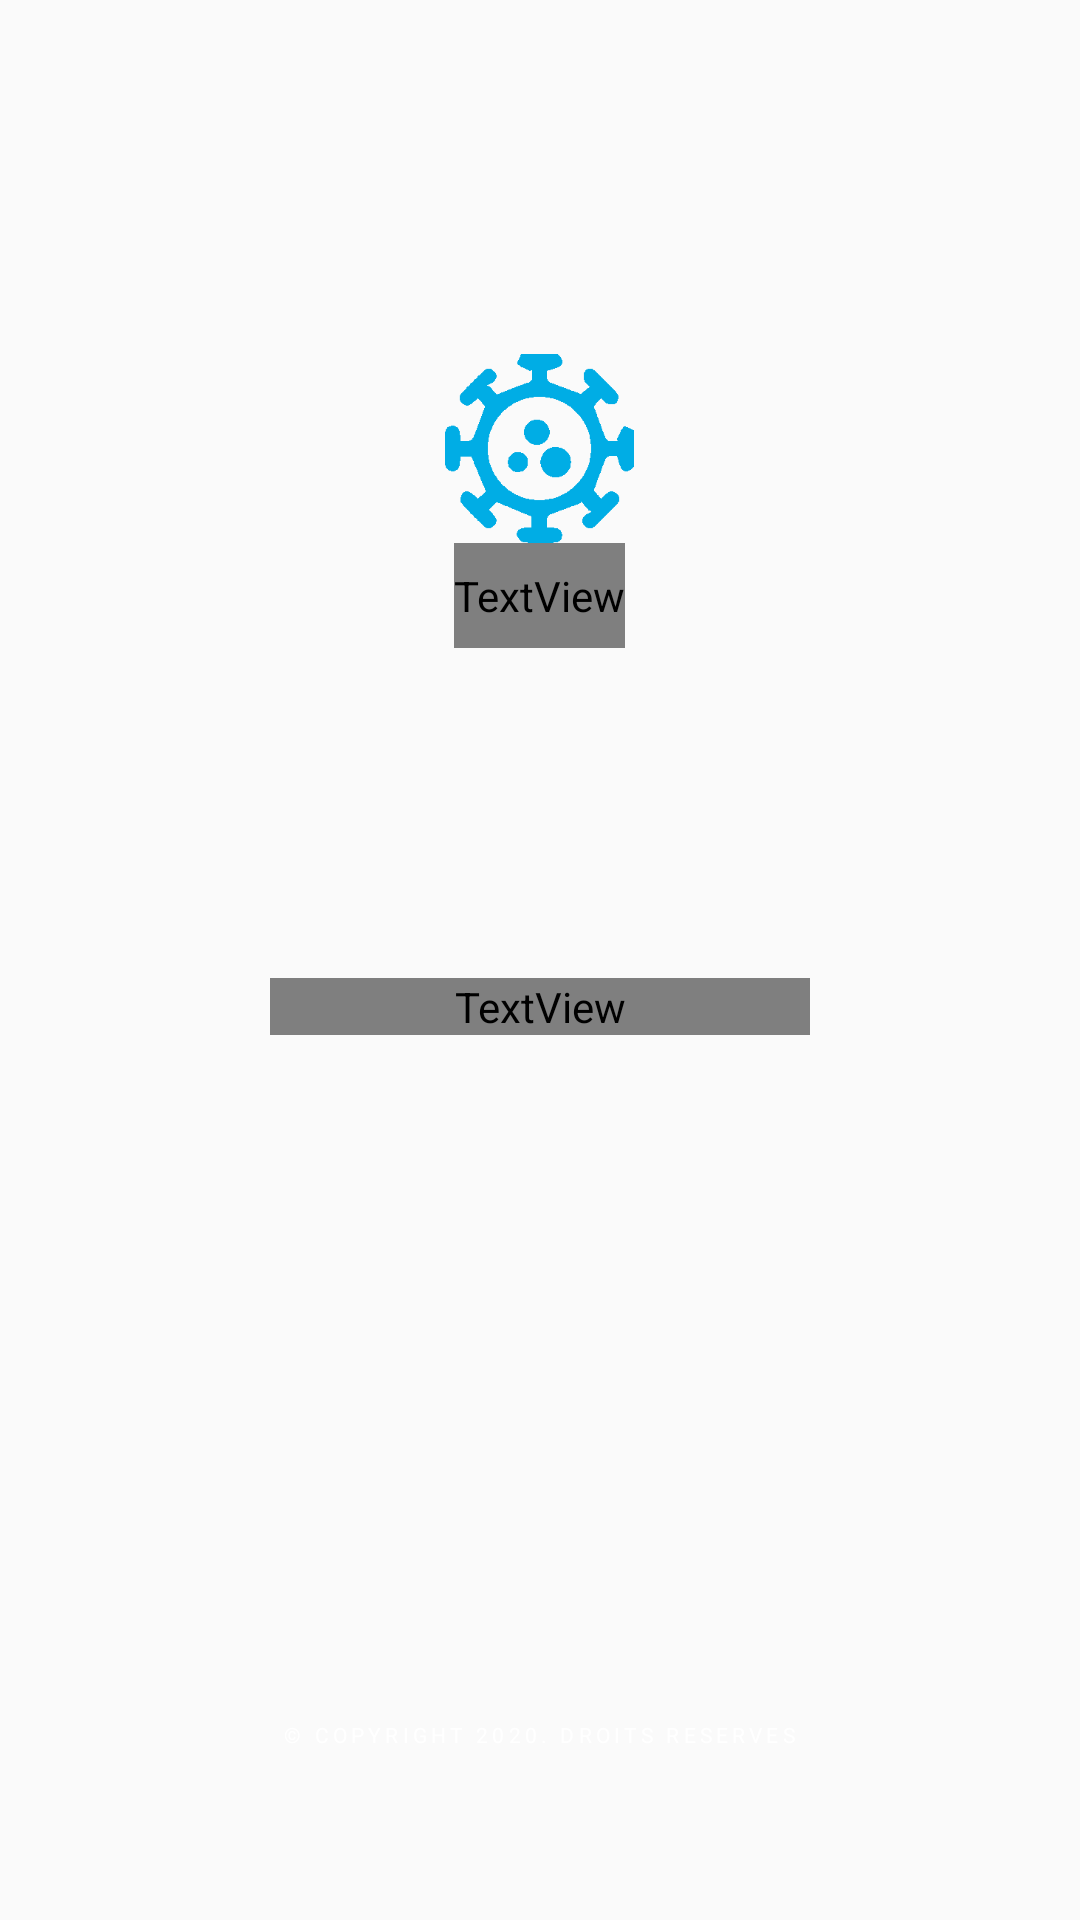

Locate icon controls on the screen. Image size 1080×1920, boxes as (x1, y1, x2, y2).
coronavirus: (445, 354, 634, 543)
